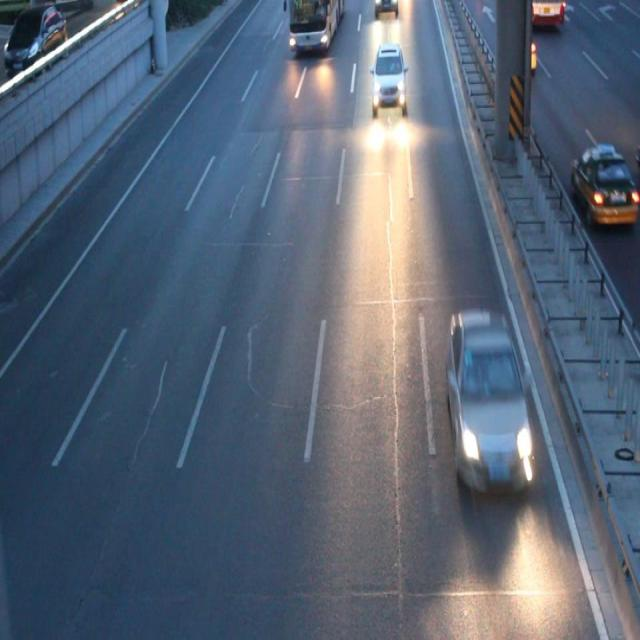car: (569, 146, 632, 223), (372, 44, 404, 105), (504, 31, 535, 70), (374, 1, 397, 17)
truck: (445, 310, 530, 490)
van: (288, 1, 344, 50), (506, 1, 562, 25)
